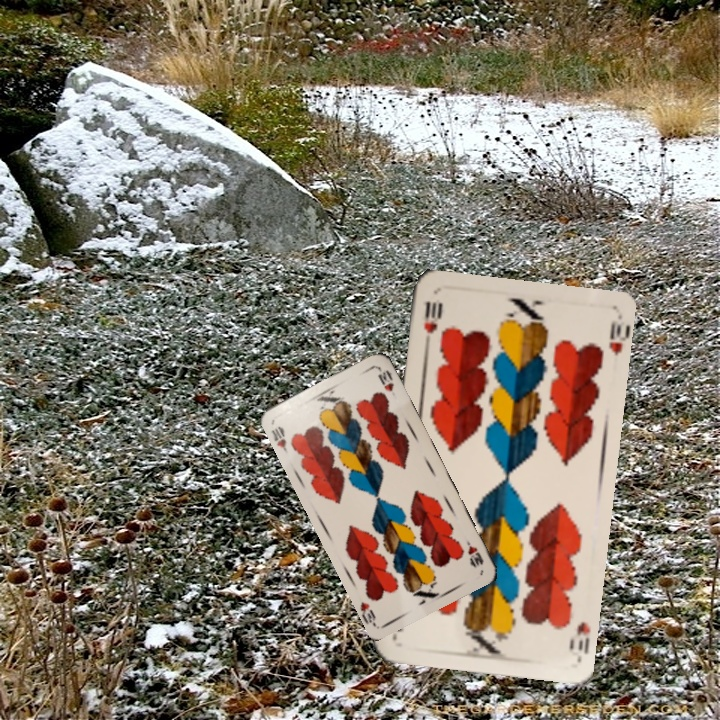H10: (419, 297, 443, 351), (267, 422, 291, 456), (462, 536, 486, 569), (573, 617, 593, 656)
